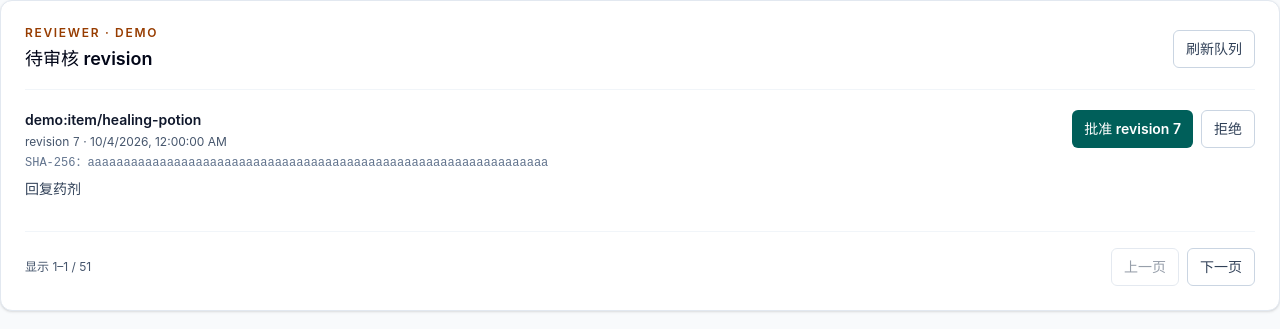
ReviewQueue › paginates large review queues with a bounded offset
Expected: the text "显示 1–1 / 51" is shown, [25,259,91,275]
Expected: the button "上一页" is disabled, [1111,248,1179,286]
What coordinates should you click on to do the following:
click the button "下一页"
I would click on:
 (1221, 267)
Its box is [1187,248,1255,286].
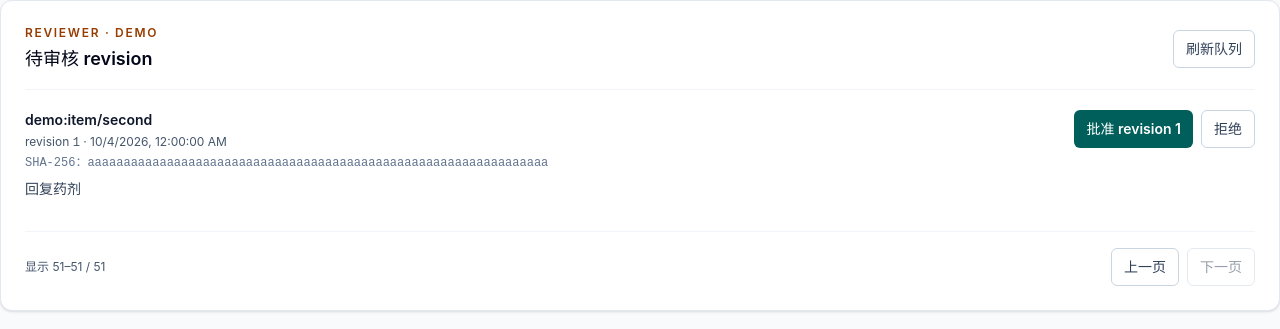
Expected: the text "显示 51–51 / 51" is shown, [25,259,106,275]
Expected: the heading "demo:item/second" is shown, [25,111,152,128]
What coordinates should you click on to do the following:
click the button "上一页"
I would click on:
 (1145, 267)
Its box is [1111,248,1179,286].
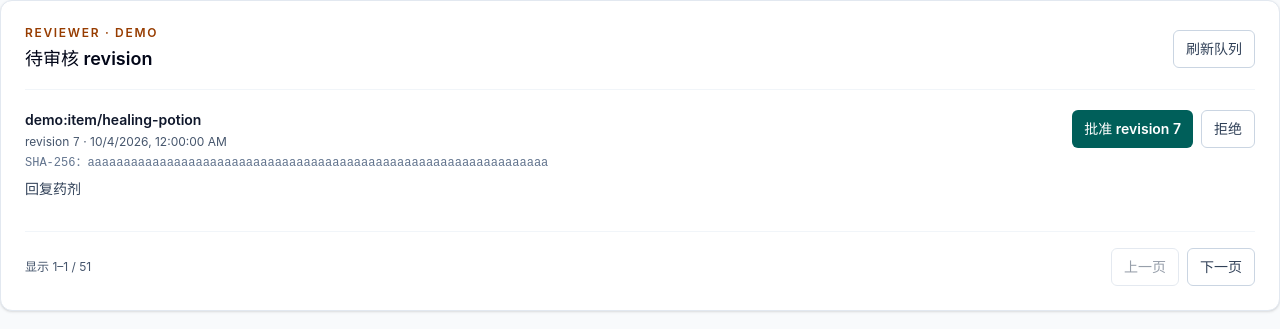
Expected: the text "显示 1–1 / 51" is shown, [25,259,91,275]
